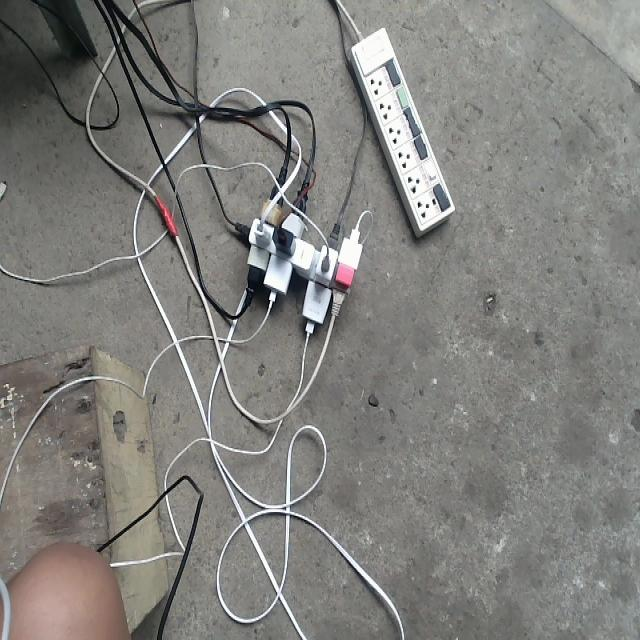-: (228, 160, 363, 332)
